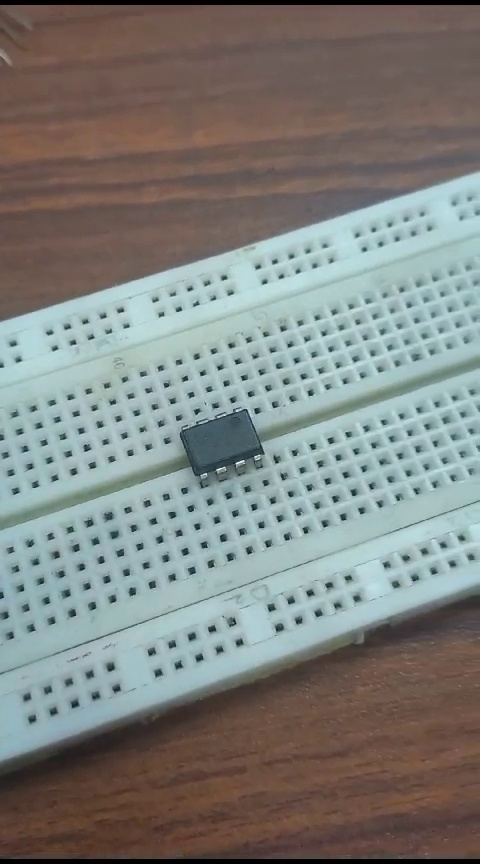IC: (173, 403, 269, 487)
